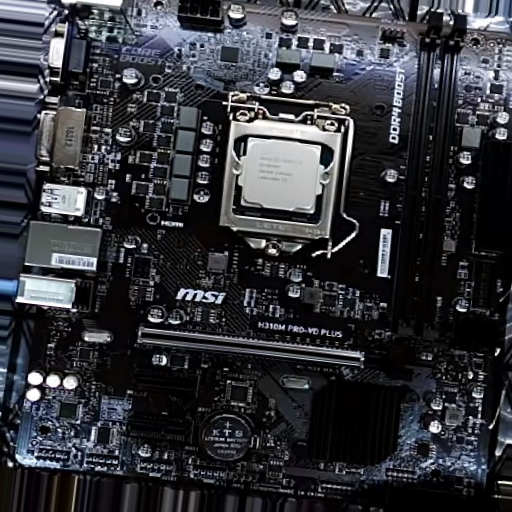CPU: (219, 91, 349, 256)
GPU: (136, 326, 411, 379)
MOTHERBOARD: (14, 1, 512, 468)
RAM: (390, 11, 469, 326)
